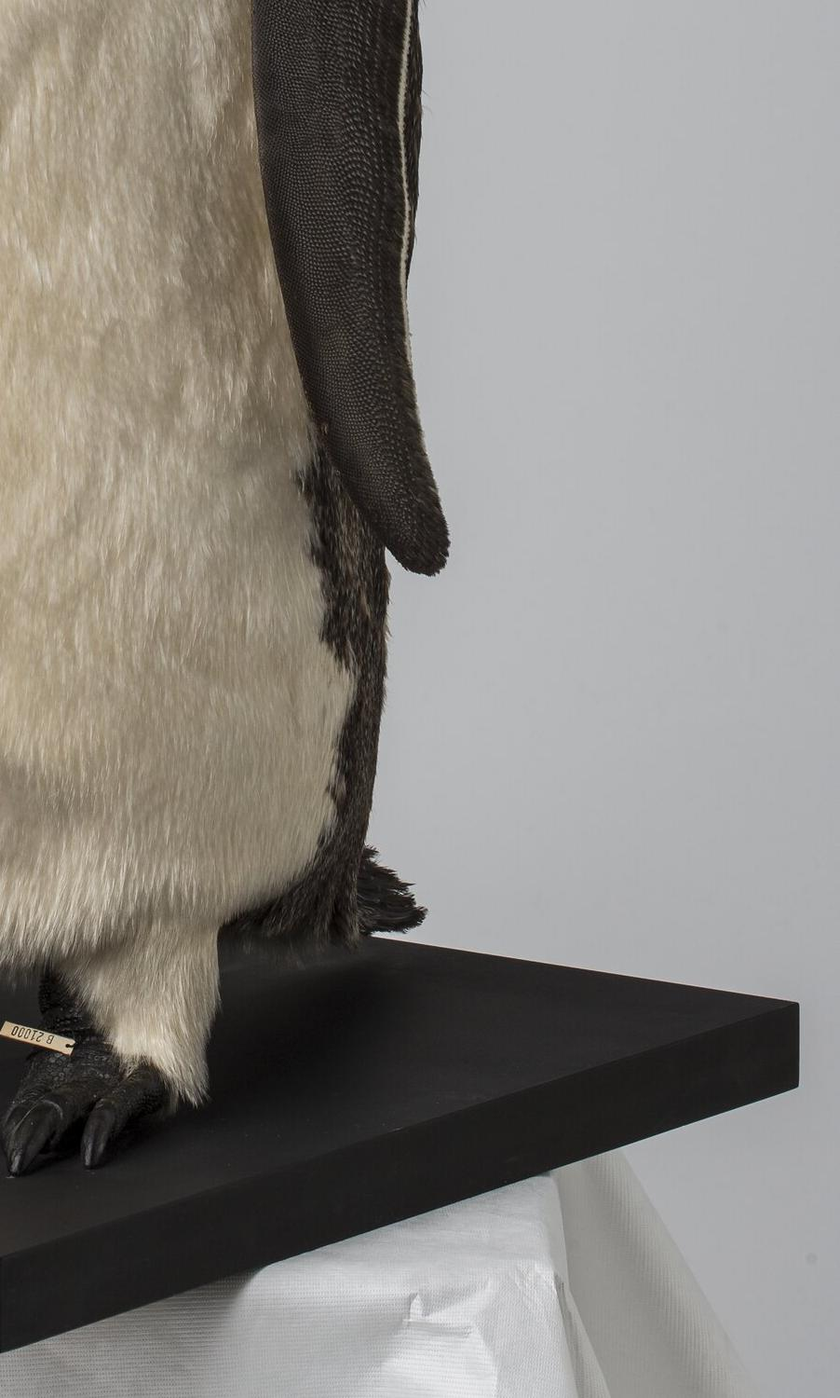Emperor Penguin: (0, 0, 559, 1187)
